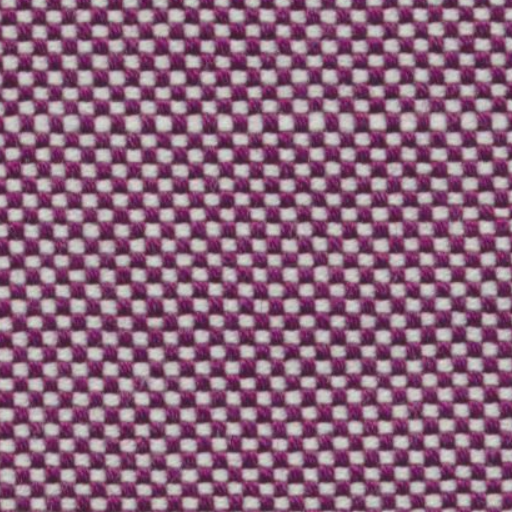TuoSha: (20, 91, 492, 158)
